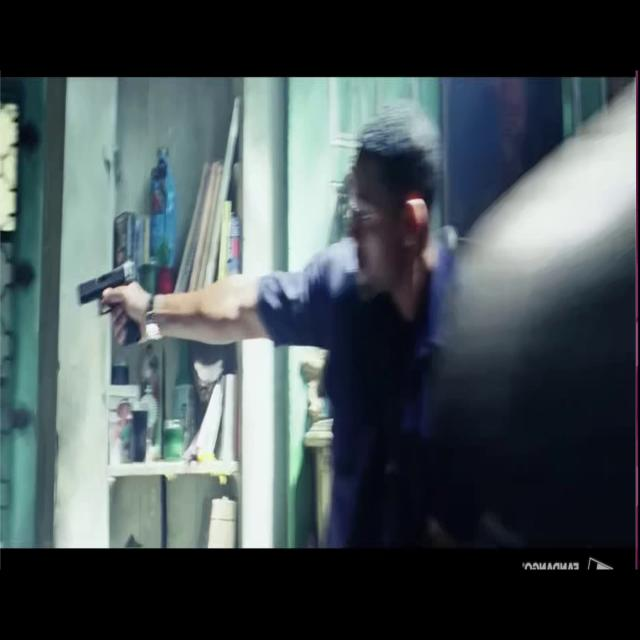weapons: (73, 237, 148, 361)
